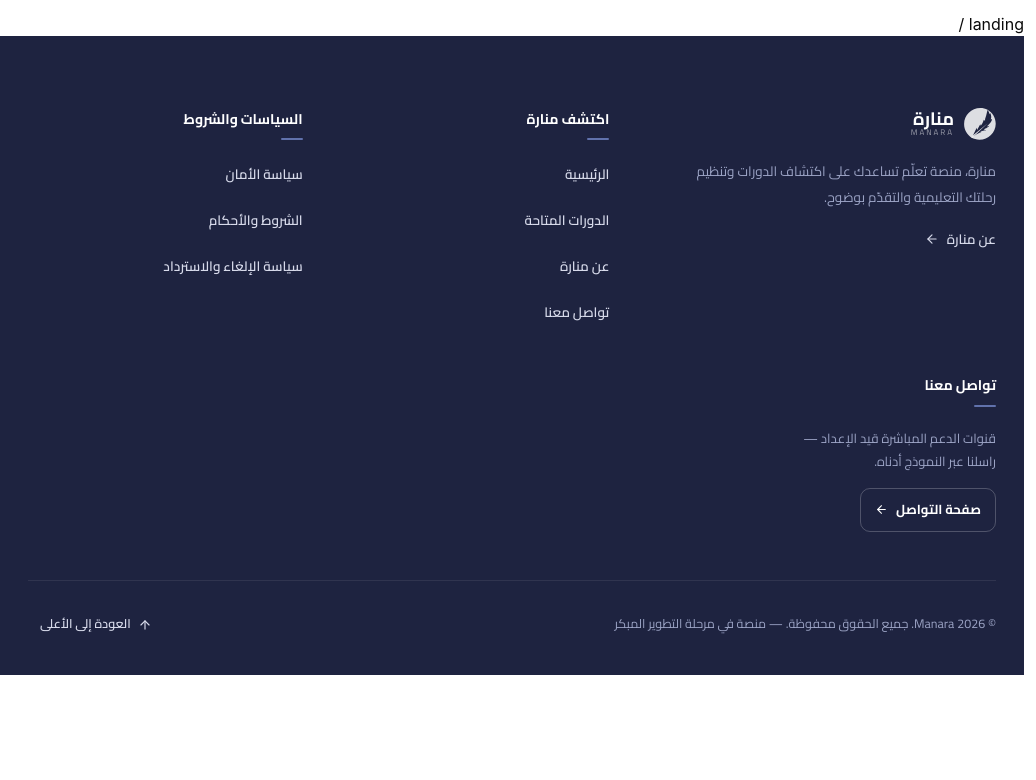
Test case: the real journey out of the landing page and back › footer → About → الرئيسية → Back stays on the landing page
The width and height of the screenshot is (1036, 780).
Step 1. Click the link "عن منارة" below "الدورات المتاحة" → (585, 266), box [560,253,609,279]
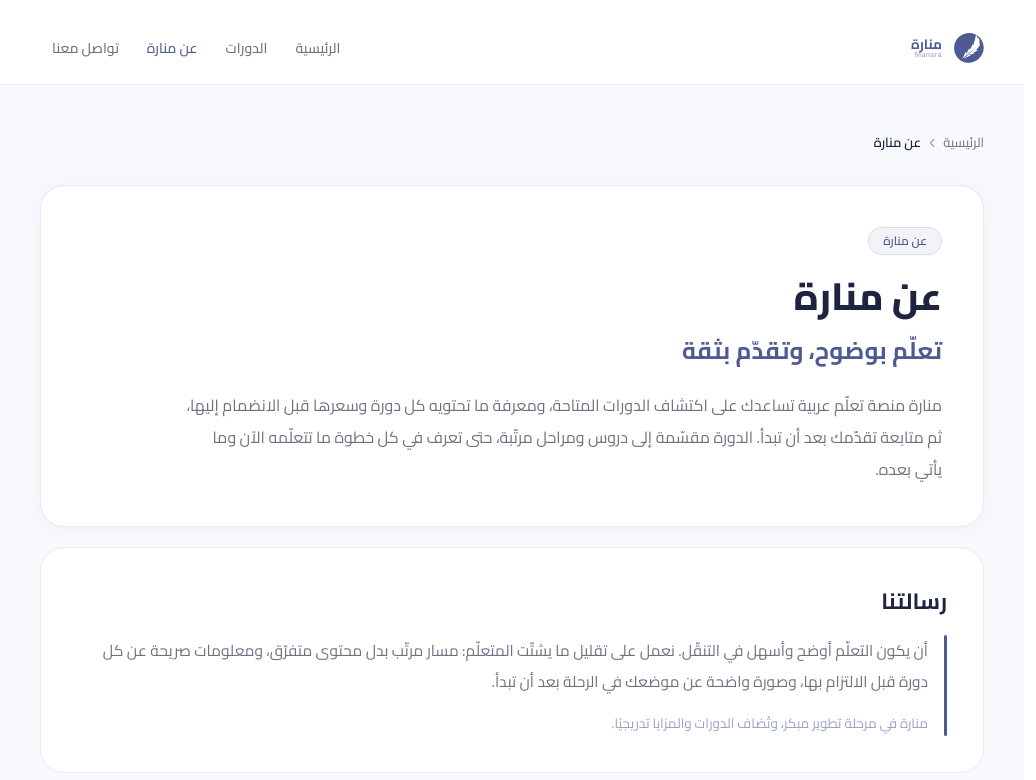
Expected: the heading "عن منارة" is shown, [794,260,942,332]
Step 2. Click the 2nd link "الرئيسية" → (964, 142), box [943,130,984,154]
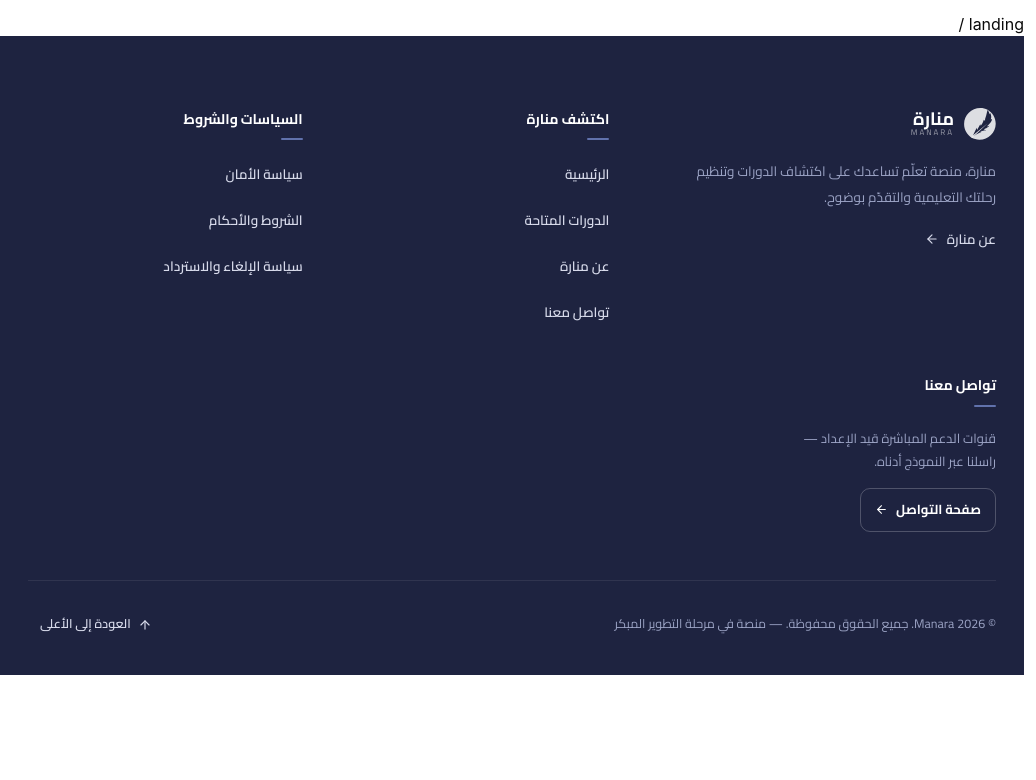
Expected: the text with test id "at" reads "landing /", [958,14,1024,34]
